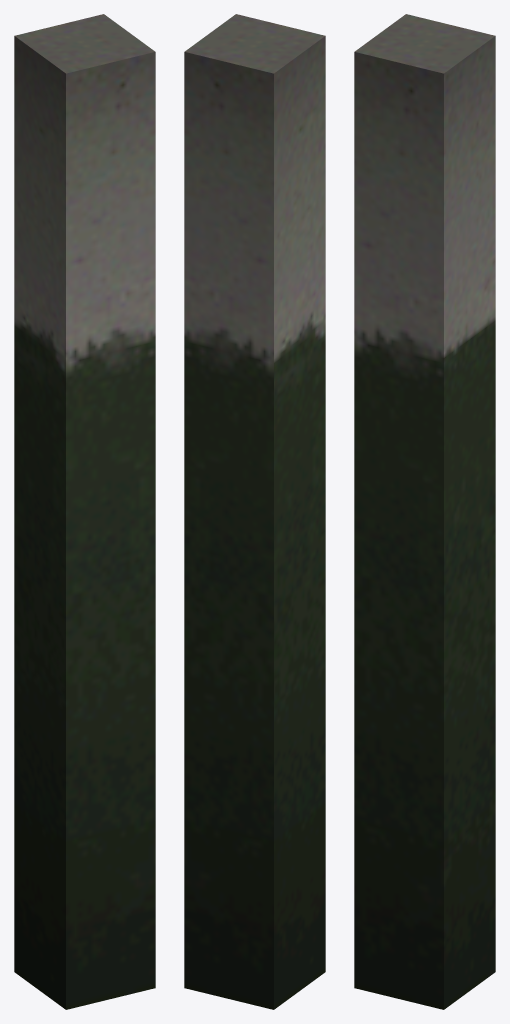
File: wall_quarter.fbx
The picture shows the model from 3 angles, left to right: view 1: azimuth 30°, elevation 25°; view 2: azimuth 150°, elevation 25°; view 3: azimuth 330°, elevation 25°; orthographic projection.
Visible parts, largest first — view 1: wall_quarter; view 2: wall_quarter; view 3: wall_quarter.
Part boxes in pixels (x1,y1,x2,y2): wall_quarter: (14,14,155,1009); wall_quarter: (184,14,325,1009); wall_quarter: (354,14,495,1009).
Bounding box in the file's own units: 25 × 250 × 25.
1 material, 1 textured.
